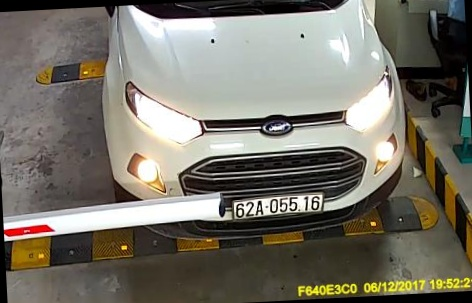plate: (227, 192, 334, 225)
